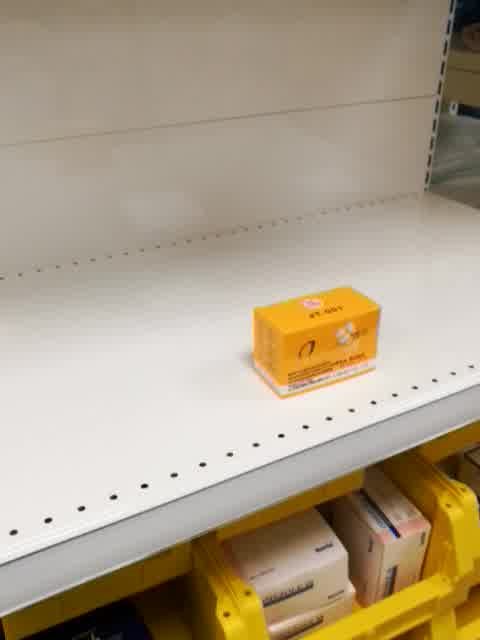jasminetea: (249, 282, 382, 400)
